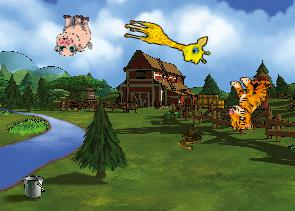giraffe: (119, 17, 213, 67)
pig: (53, 13, 93, 56)
tiger: (225, 74, 273, 131)
